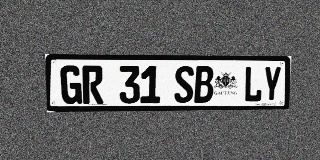1: (140, 66, 160, 103)
3: (119, 66, 140, 104)
B: (194, 66, 214, 103)
G: (60, 65, 82, 104)
L: (243, 66, 263, 102)
R: (82, 65, 103, 104)
S: (174, 66, 194, 103)
Y: (262, 66, 282, 102)
